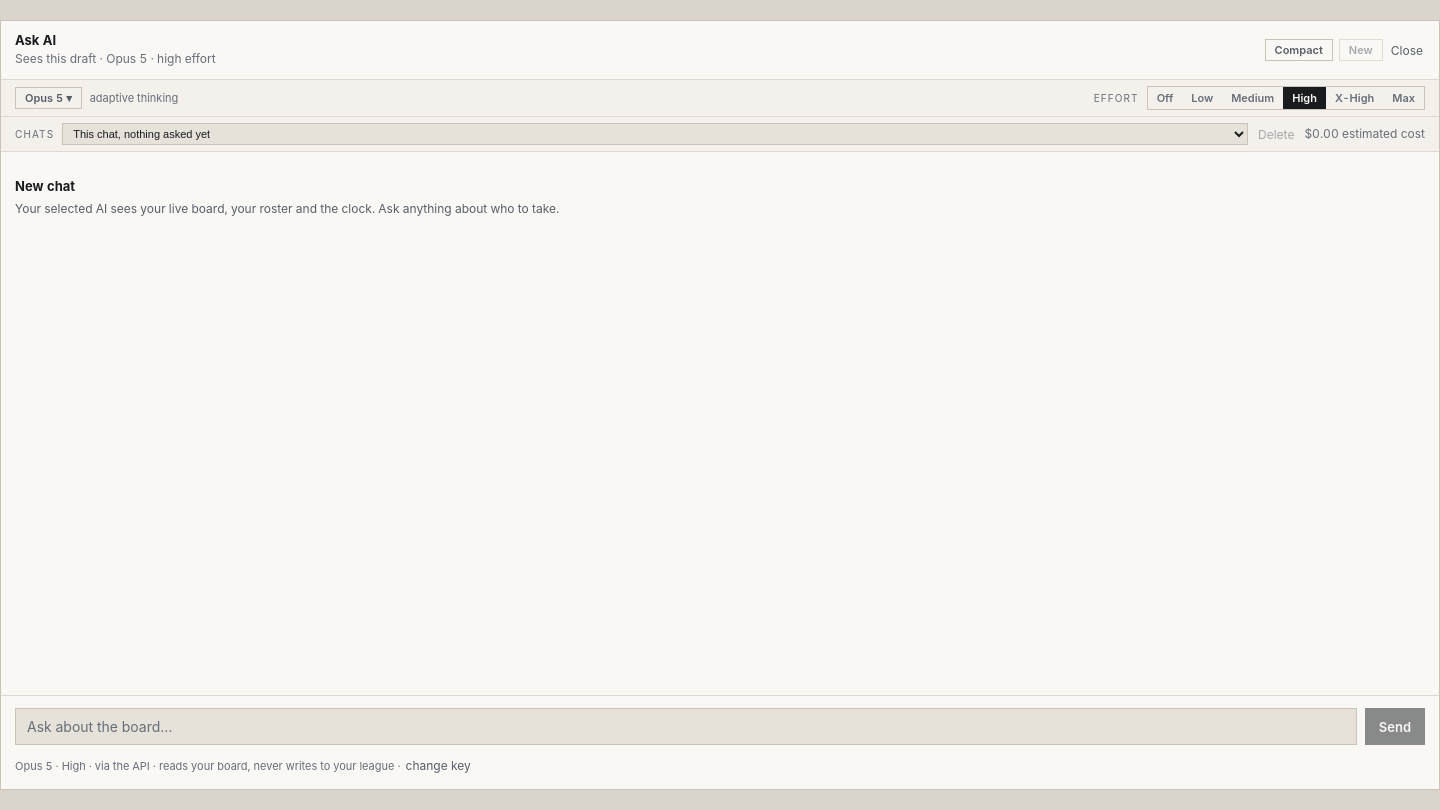
Test case: saved chats › files a conversation once the first answer lands
Type "Who should I take?" into the field named "Ask AI" at {"x": 686, "y": 726}, box [15, 708, 1357, 745]
Then press Enter
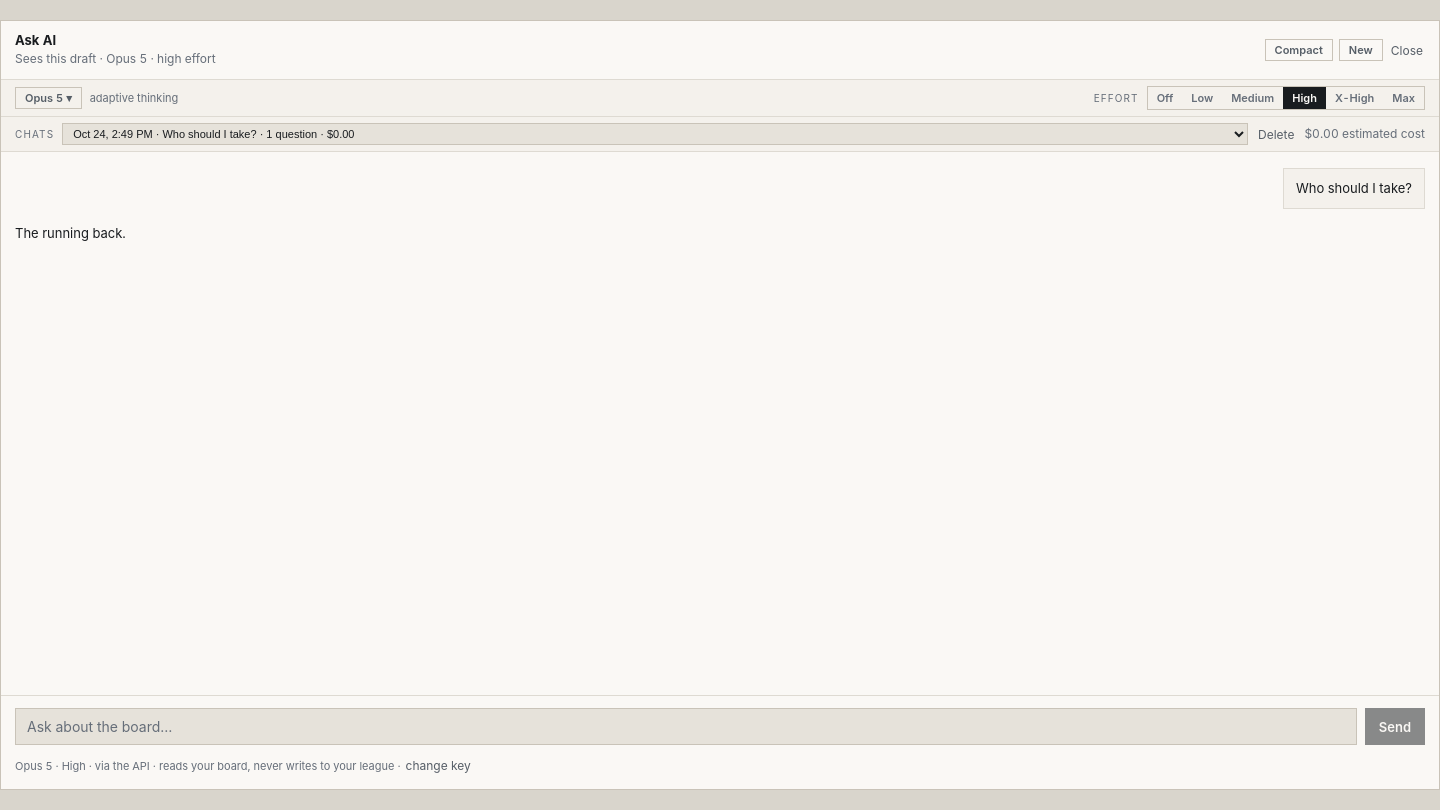
Check: the text "The running back." is shown, box [15, 225, 126, 241]
Check: the text "Who should I take?" is shown, box [1296, 178, 1412, 199]
Check: the dropdown named "Saved chats" shows "Oct 24, 2:49 PM · Who should I take? · 1 question · $0.00", box [62, 123, 1248, 145]
